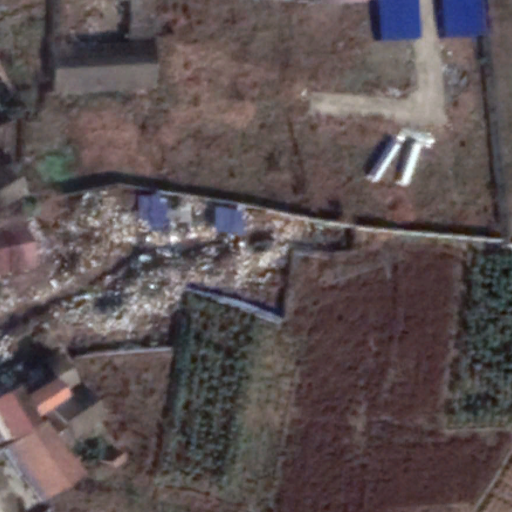msw: (36, 189, 289, 339)
